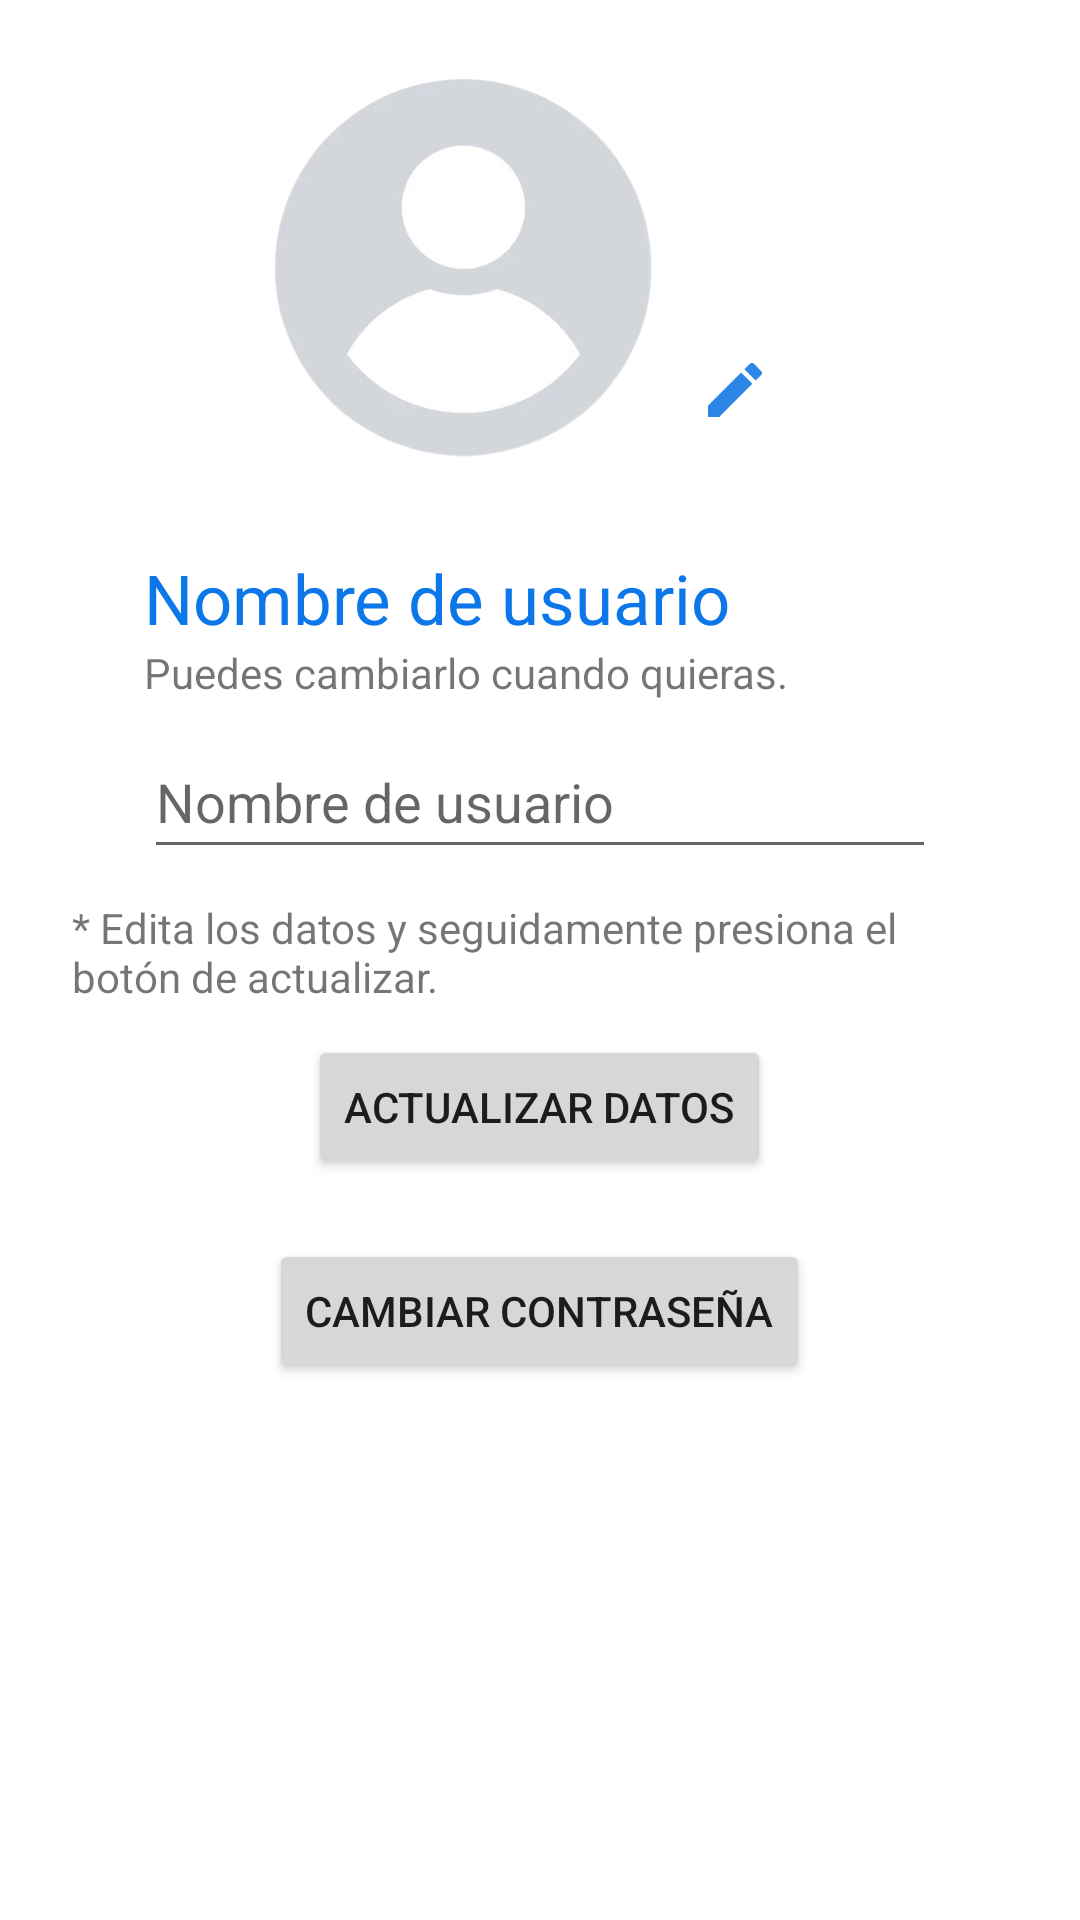

Icon bounding boxes for this 1080px×1920px phone screenshot, format (x1, y1, x2, y2):
editar: (708, 363, 762, 417)
